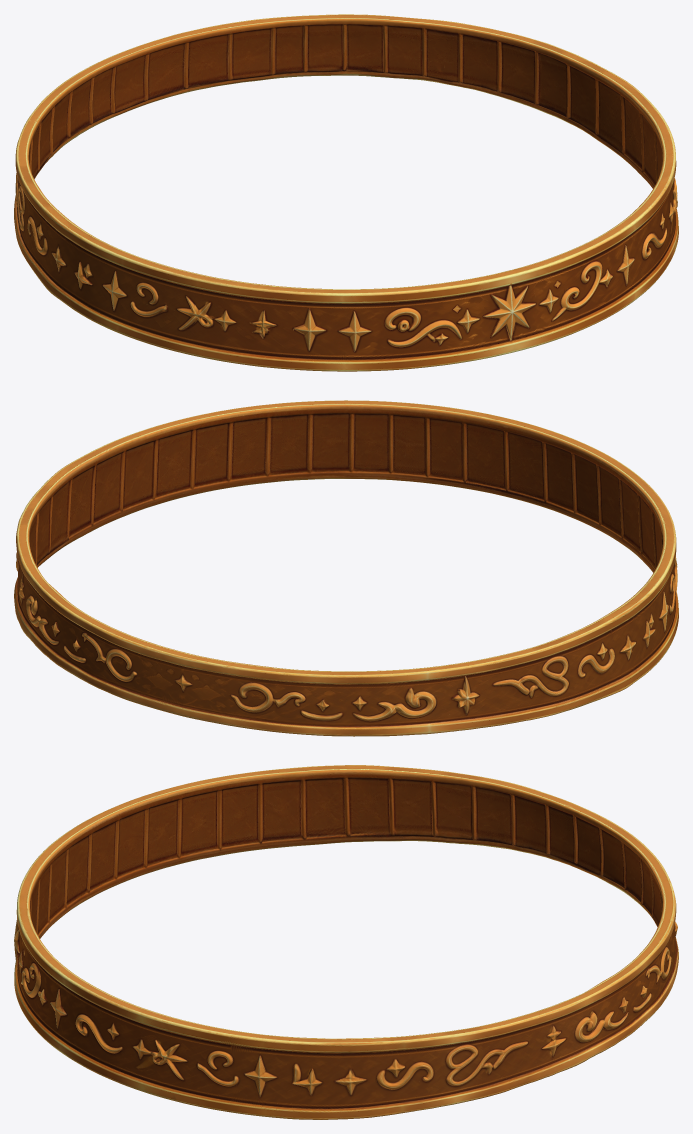
File: armillary-band.glb
3 renders of one model, top to bottom at view 1: azimuth 30°, elevation 25°; view 2: azimuth 150°, elevation 25°; view 3: azimuth 270°, elevation 25°, orthographic.
Size of the model in its own units: 1.9 by 0.2491 by 1.9.
Materials: 1 (1 with a texture image).
